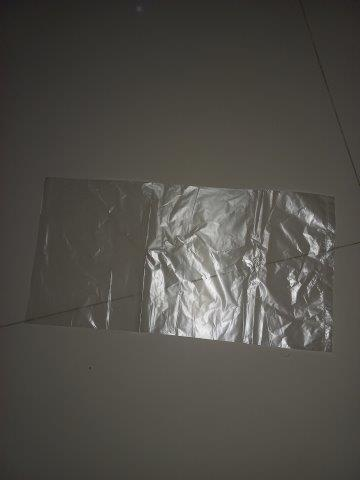plastik: (23, 176, 334, 353)
